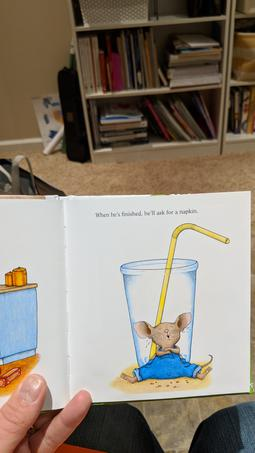text block: (87, 199, 203, 218)
